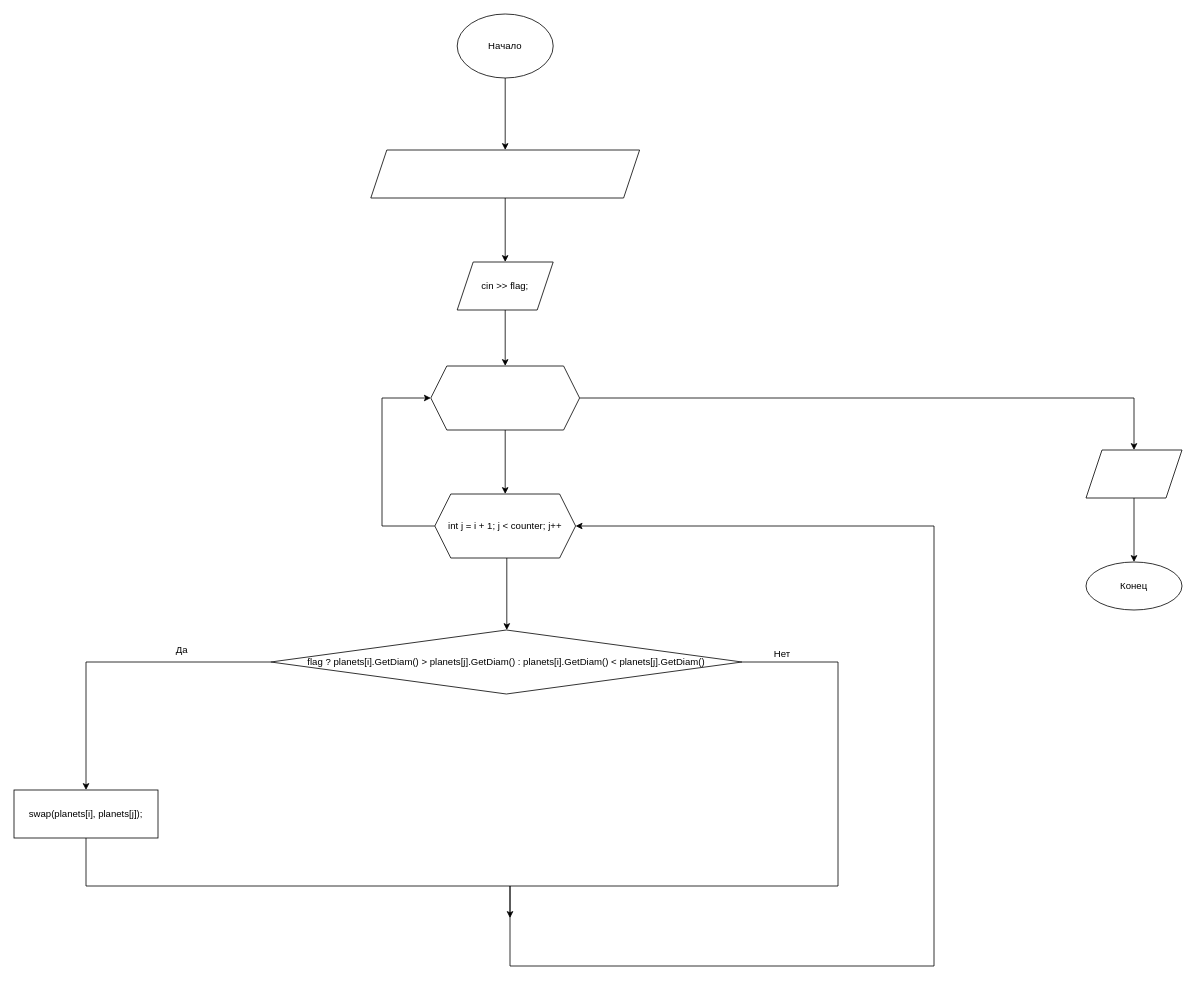
The diagram is 1196 pixels wide and 986 high, and some of its shapes have lost their labels. Here are the shapes that lost their labels. From the top down, the box of each, then its label:
(370, 149, 640, 198): cout << "Сортировать по возрастанию? ";
(430, 365, 580, 430): int i = 0; i < counter; i++
(1085, 449, 1182, 498): PrintPlanets();
